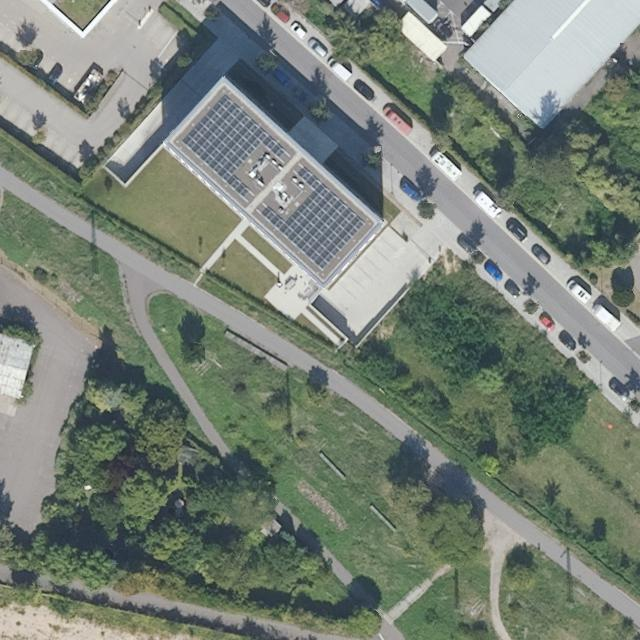PV: (259, 162, 369, 272), (180, 92, 289, 201)
